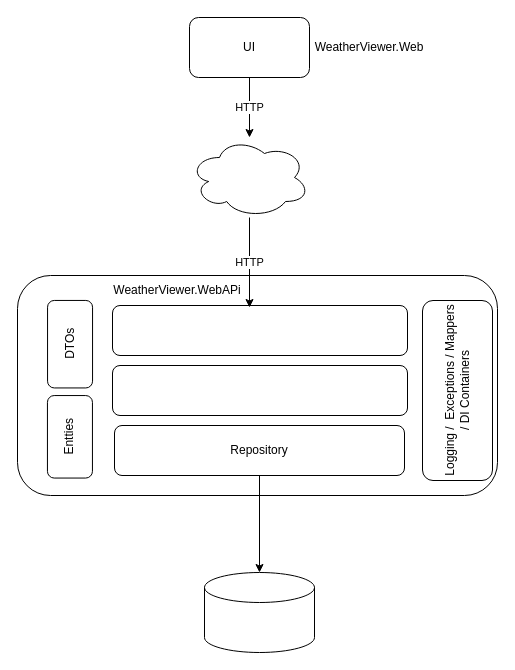
The diagram is 515 pixels wide and 670 high, and some of its shapes have lost their labels. Each missing label, with the box of its shape:
Controllers: (112, 304, 408, 356)
Services: (112, 364, 408, 416)
WeatherViewer: (204, 572, 314, 652)
